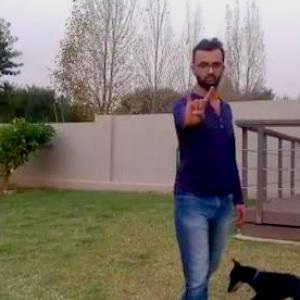takeoff-hand: (176, 75, 217, 130)
